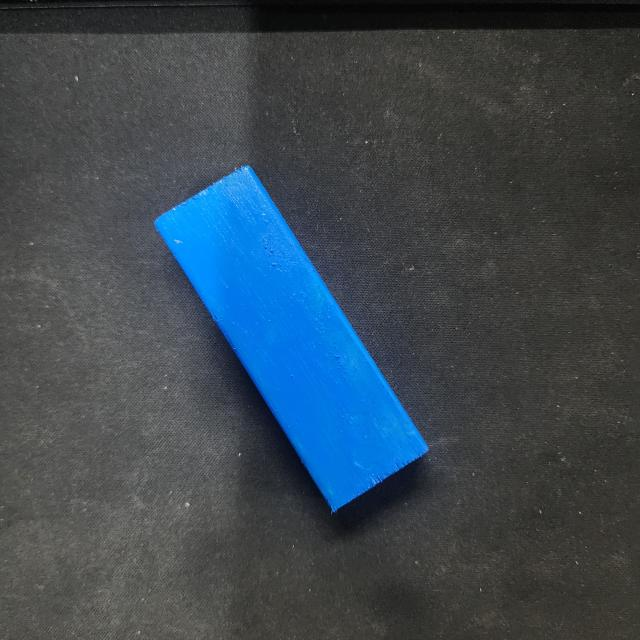blue: (145, 160, 434, 515)
